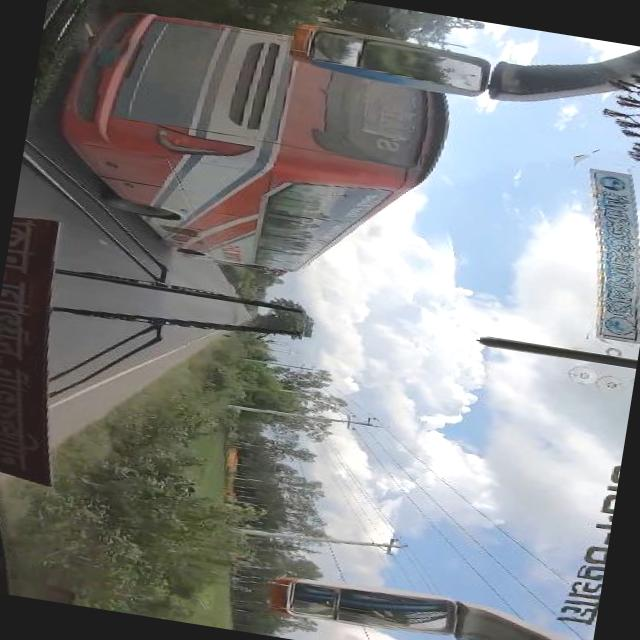bus: (49, 2, 456, 298)
